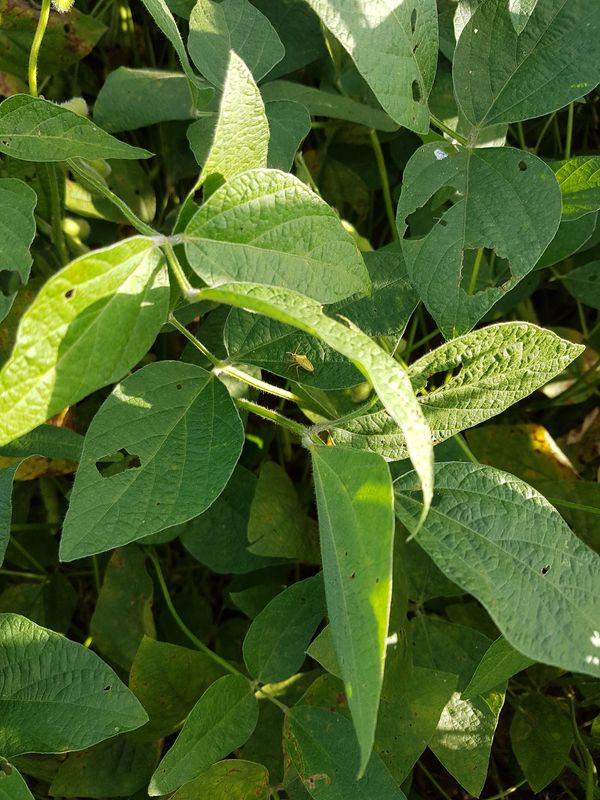Euschistus_heros_ninfa: (279, 341, 324, 381)
